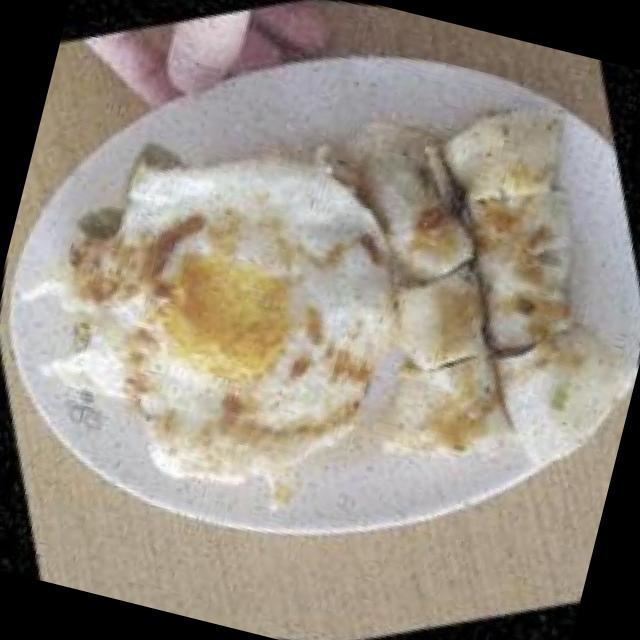fried_eggs: (0, 55, 479, 568)
